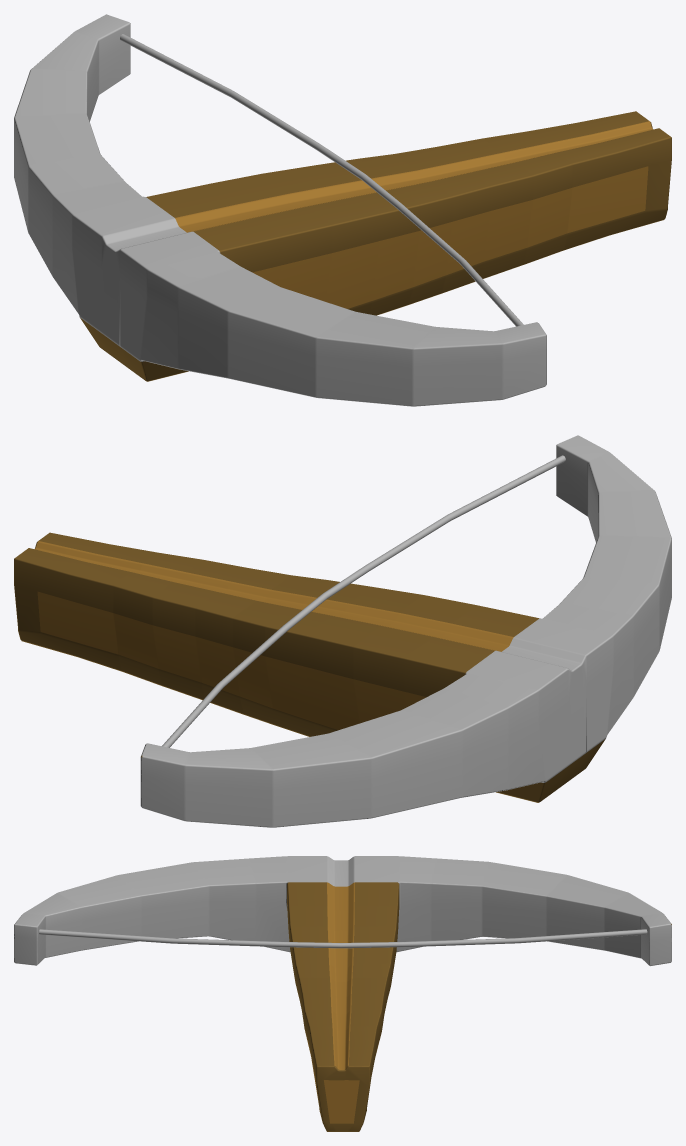
The model's file is Ballesta.fbx.
3 renders of one model, top to bottom at view 1: azimuth 30°, elevation 25°; view 2: azimuth 150°, elevation 25°; view 3: azimuth 270°, elevation 25°, orthographic. The views are drawn at different scales.
Visible parts, largest first — view 1: pCylinder3; view 2: pCylinder3; view 3: pCylinder3.
Part boxes in pixels (<box>): pCylinder3: <box>14,14,671,406</box>; pCylinder3: <box>14,435,671,827</box>; pCylinder3: <box>14,856,671,1131</box>.
Bounding box in the file's own units: 4.21 × 1.05 × 5.87.
